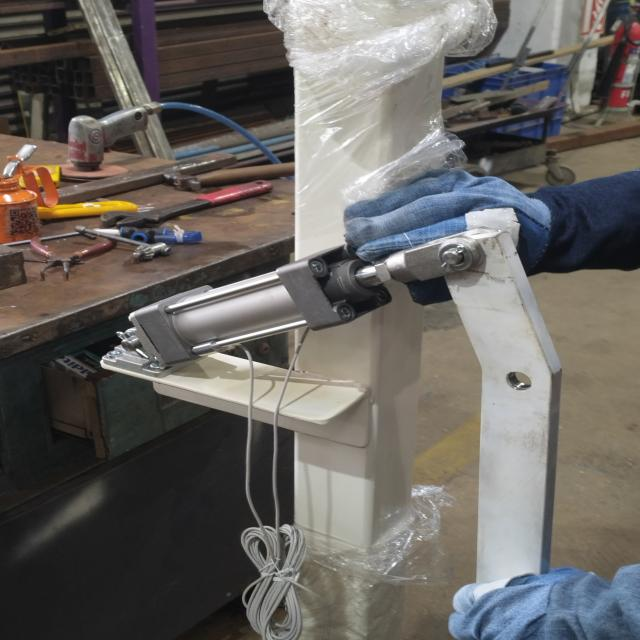Gloves-Detection: (342, 160, 640, 284), (436, 574, 640, 639)
